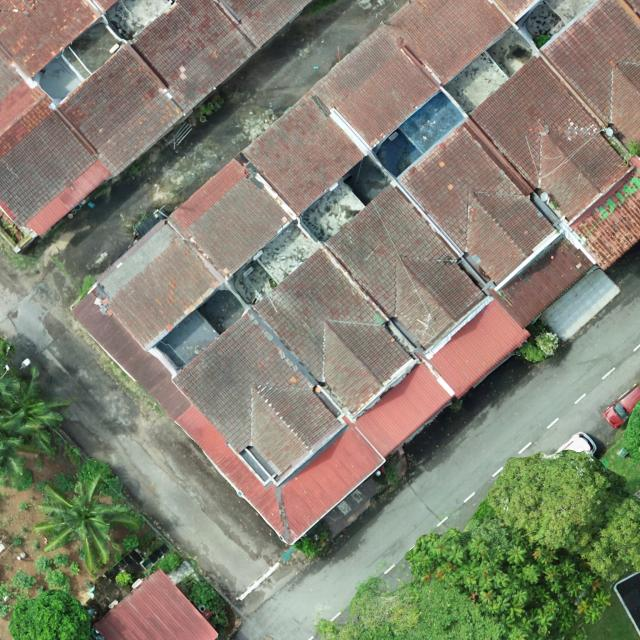tree: (404, 530, 612, 640), (486, 449, 628, 552), (314, 576, 508, 640), (32, 472, 141, 574), (0, 366, 72, 455), (578, 491, 640, 582), (9, 588, 93, 640), (534, 332, 561, 357)
